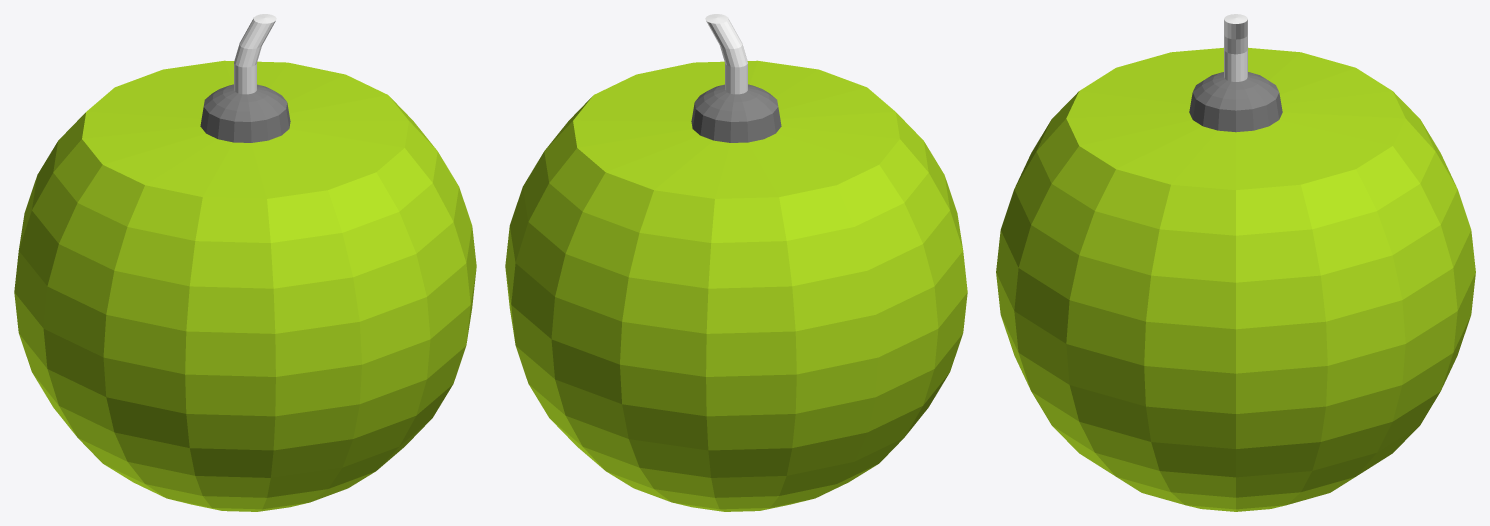
File: enemyBomb.fbx
The picture shows the model from 3 angles, left to right: view 1: azimuth 30°, elevation 25°; view 2: azimuth 150°, elevation 25°; view 3: azimuth 270°, elevation 25°; orthographic projection. The views are drawn at different scales.
Visible parts, largest first — view 1: Sphere; view 2: Sphere; view 3: Sphere.
Part boxes in pixels (x1,y1,x2,y2): Sphere: (14, 14, 476, 511); Sphere: (505, 14, 967, 511); Sphere: (996, 14, 1475, 511).
Bounding box in the file's own units: 36.85 × 40.8 × 36.85.
